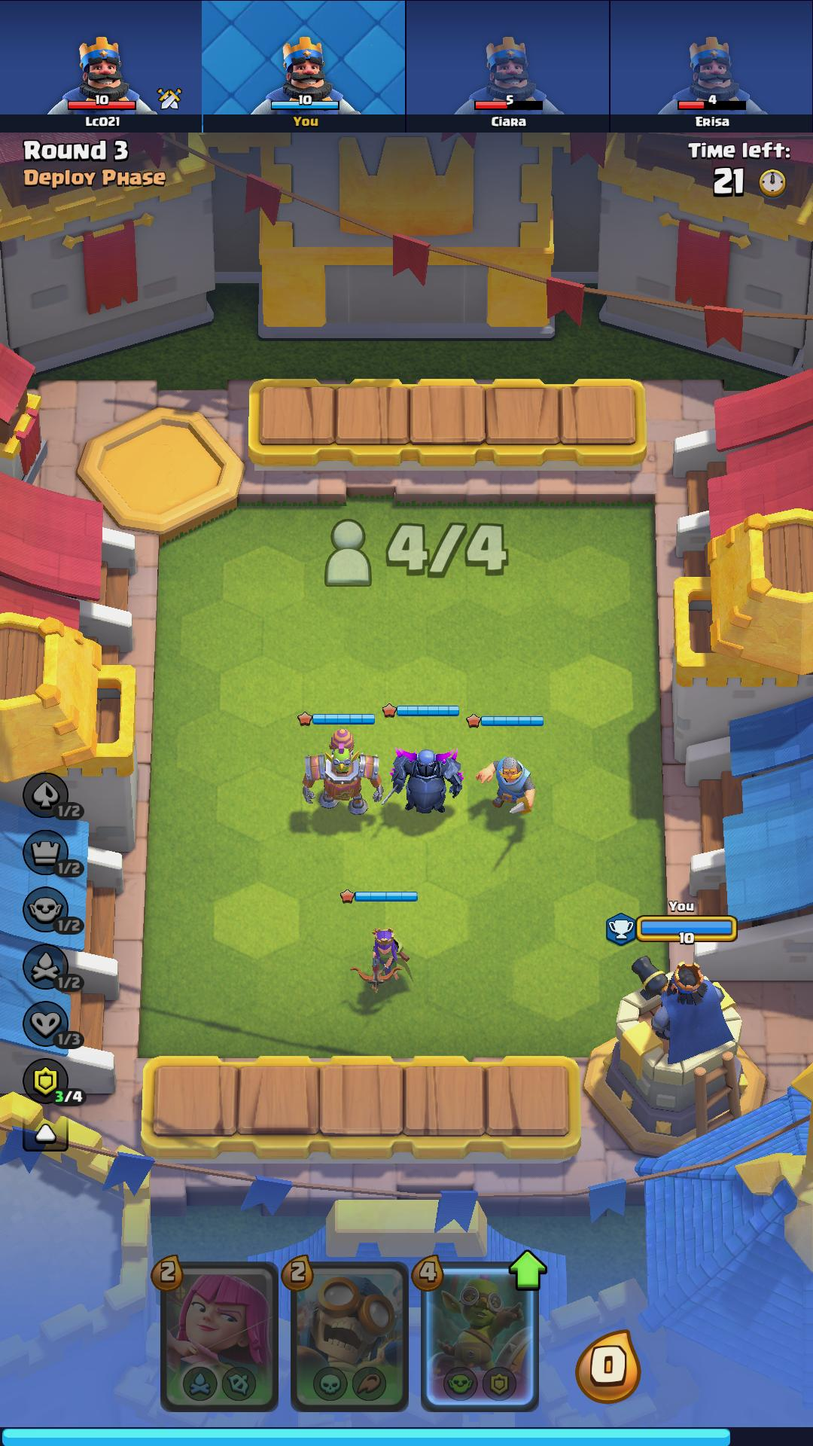hand-archer: (164, 1265, 279, 1411)
hand-bomber: (292, 1263, 408, 1408)
hand-machine: (425, 1264, 533, 1408)
knight: (470, 747, 541, 825)
machine: (290, 726, 388, 818)
pekka: (385, 733, 467, 820)
queen: (340, 918, 414, 1002)
upgrade: (507, 1246, 550, 1294)
